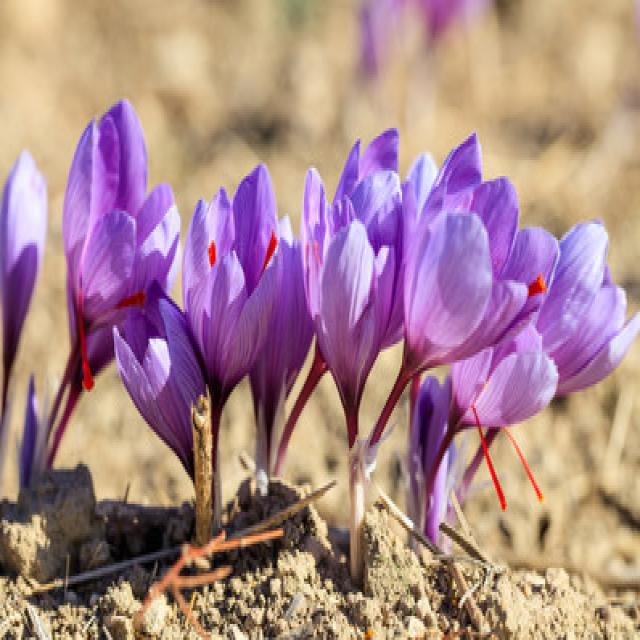saffron closed: (0, 151, 46, 443)
saffron open: (367, 135, 557, 447), (33, 100, 180, 470), (183, 166, 276, 528), (301, 129, 403, 447), (430, 323, 559, 480), (114, 282, 206, 478), (536, 222, 640, 395), (250, 216, 314, 494)
